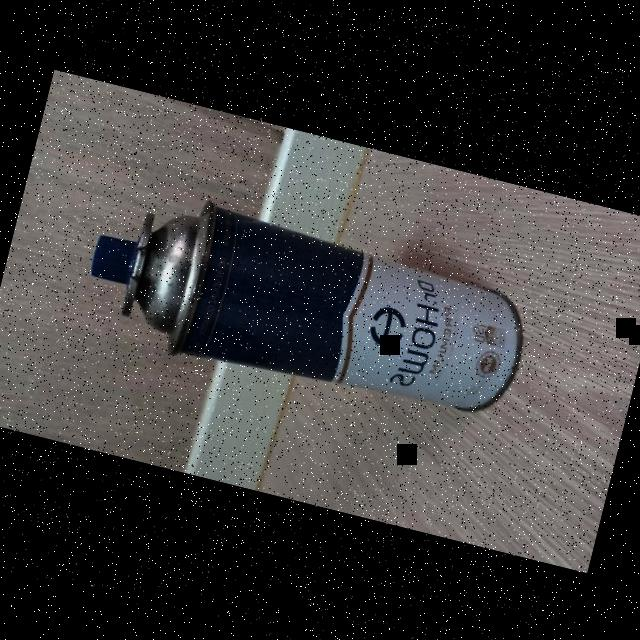chemical_spray_can: (53, 148, 573, 472)
